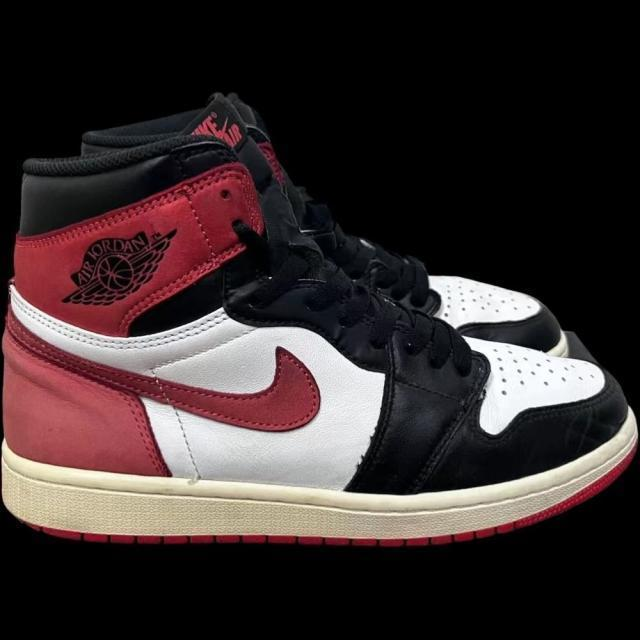nike original jordan 1: (0, 127, 640, 547), (81, 92, 572, 356)
